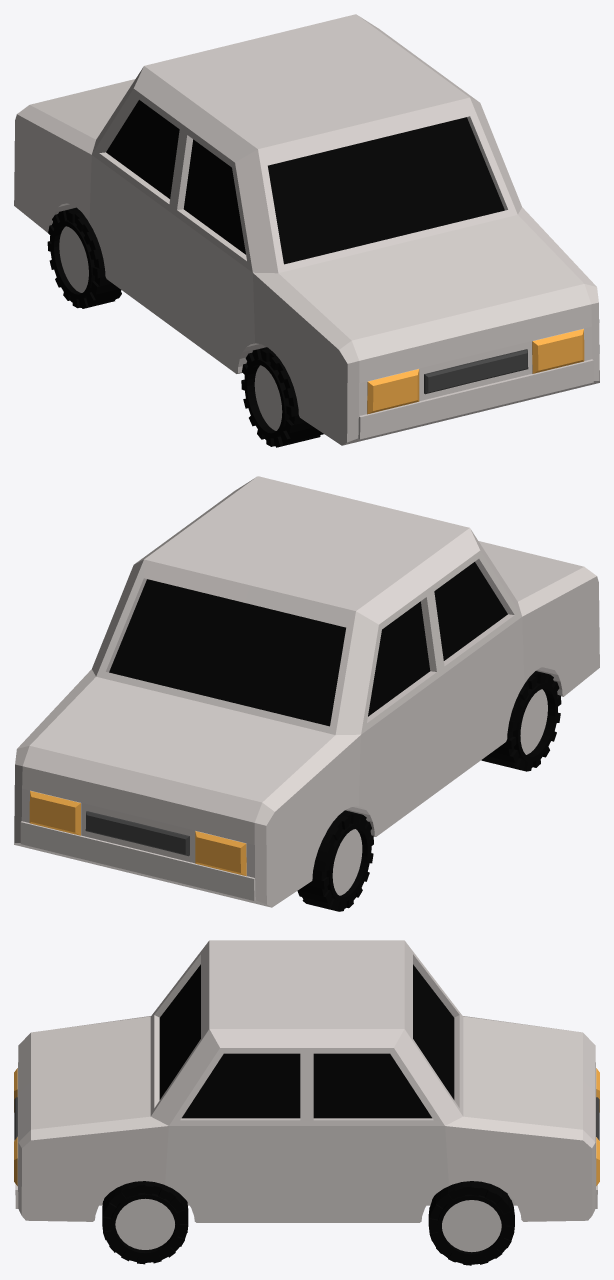
The model's file is avp_car_bak.glb.
3 renders of one model, top to bottom at view 1: azimuth 30°, elevation 25°; view 2: azimuth 150°, elevation 25°; view 3: azimuth 270°, elevation 25°, orthographic. The views are drawn at different scales.
Visible parts, largest first — view 1: Cube; view 2: Cube; view 3: Cube.
Boxes of the visible parts, x1,y1,x2,y2 form: Cube: (14, 14, 599, 447); Cube: (14, 476, 599, 911); Cube: (14, 940, 599, 1265).
Bounding box in the file's own units: 4.05 × 3.62 × 8.61.
